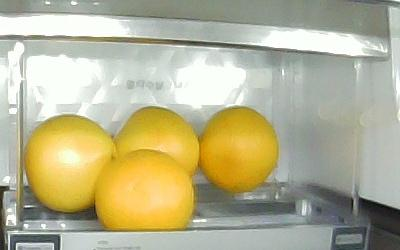grapefruit: (24, 114, 117, 212), (96, 149, 195, 230), (199, 106, 279, 192), (113, 106, 200, 176)
